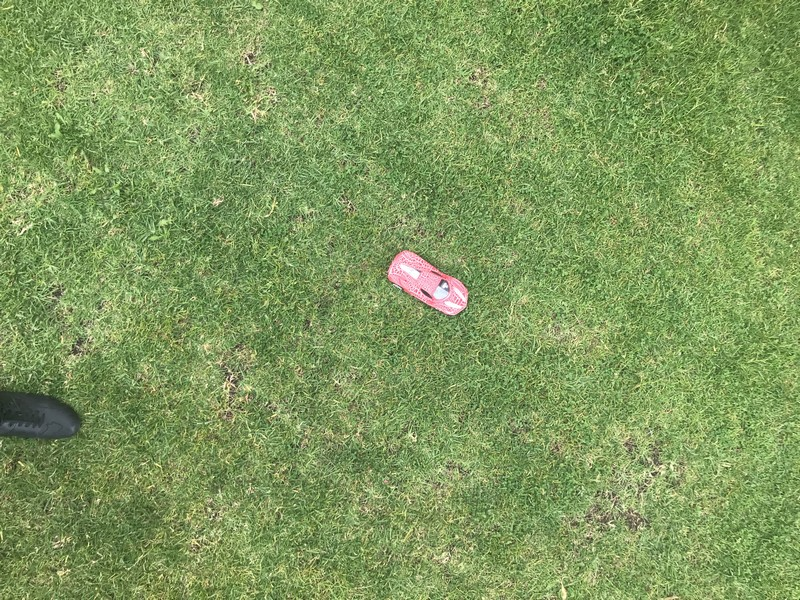RC: (386, 249, 470, 318)
